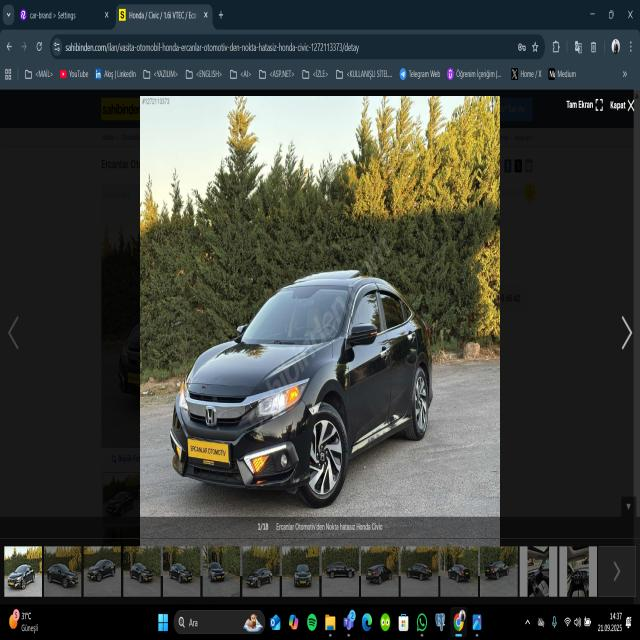honda: (200, 403, 221, 430)
